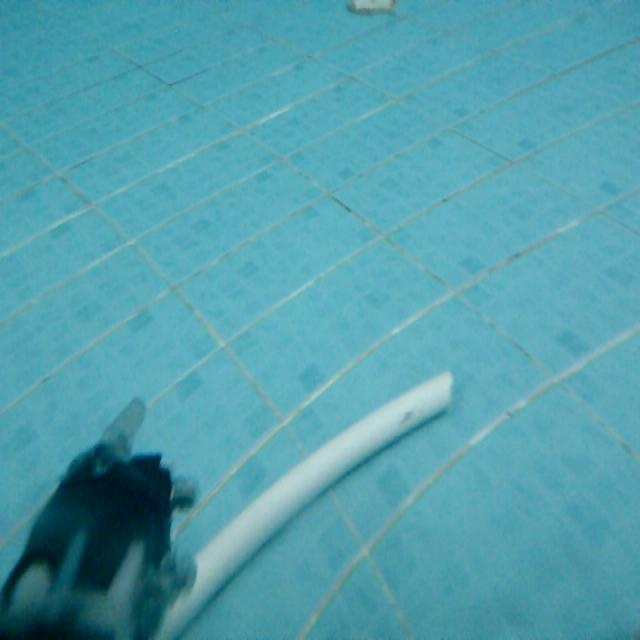Cube: (151, 364, 456, 639)
